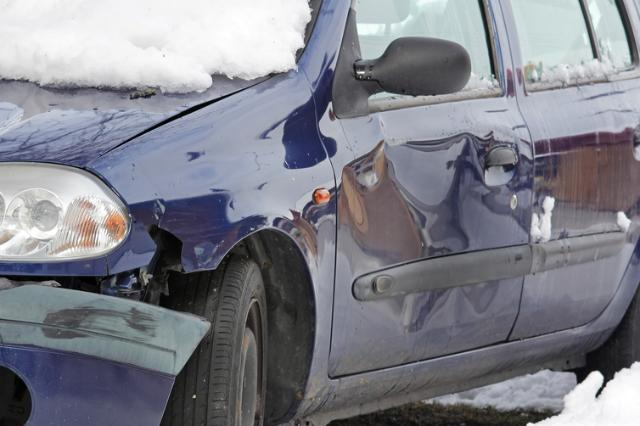Bumper: (0, 272, 204, 426)
Door: (372, 124, 514, 322)
Fender: (120, 184, 213, 285)
